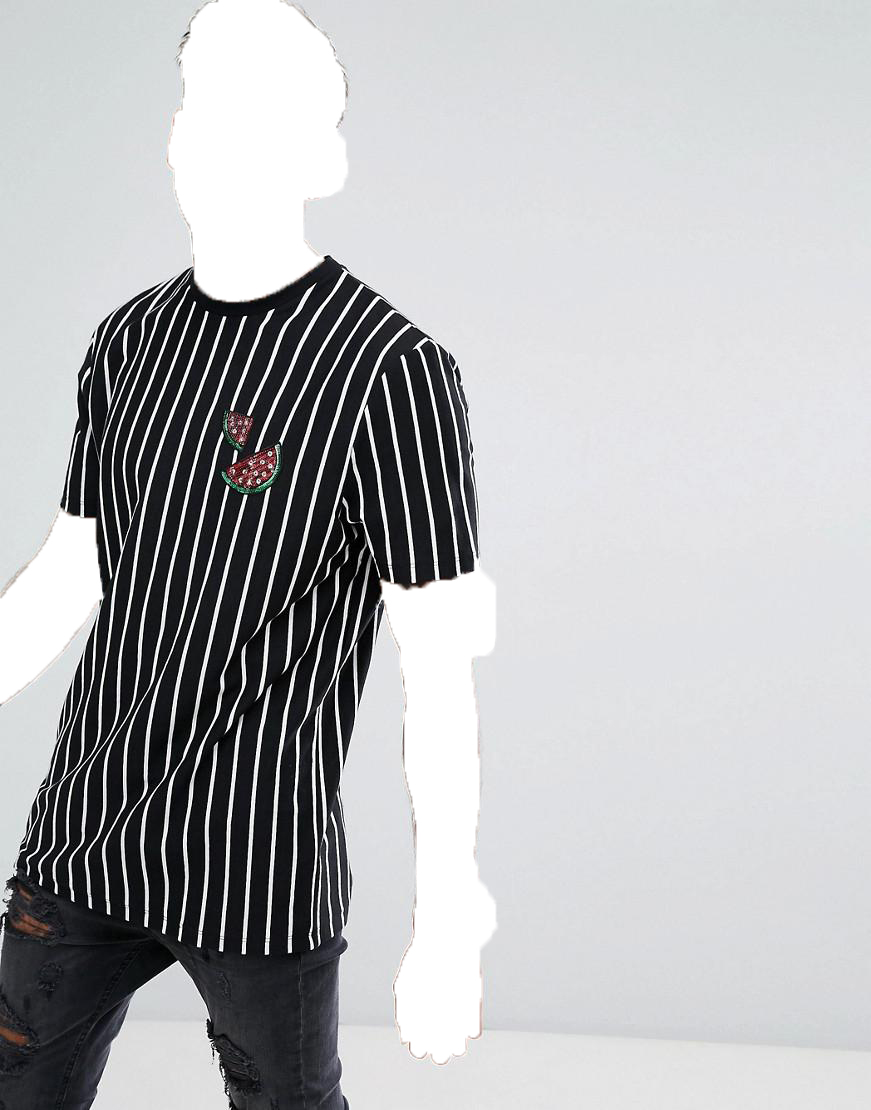teeshirt: (12, 257, 495, 949)
